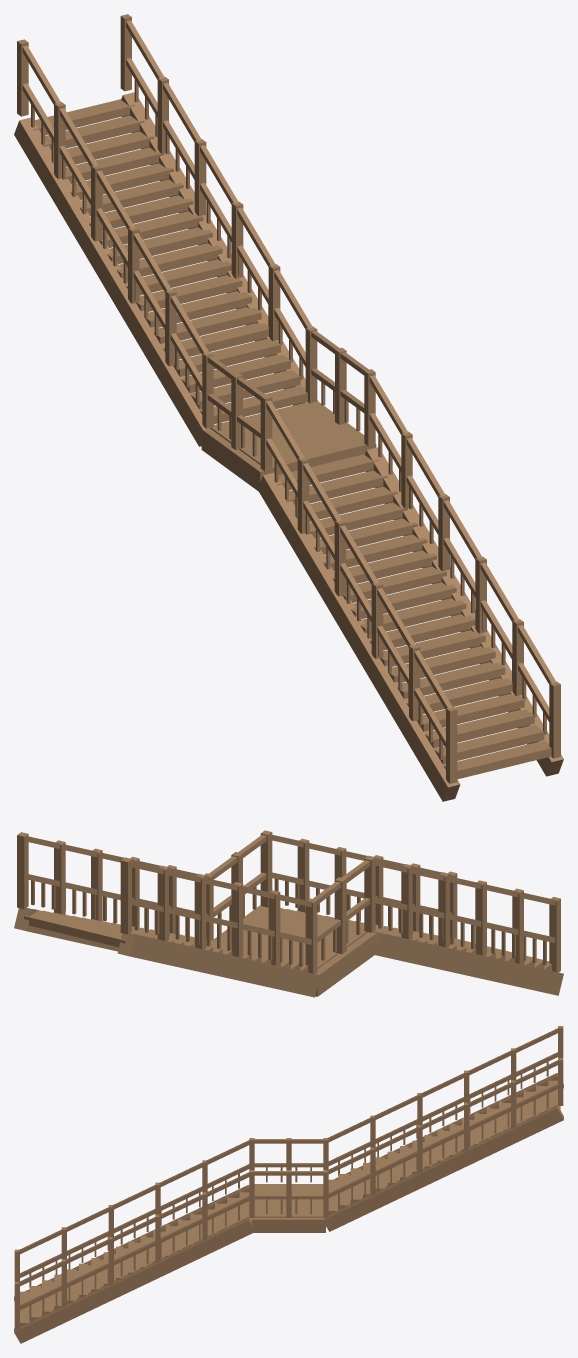
File: yokocho-timber-stair-flight.glb
3 renders of one model, top to bottom at view 1: azimuth 30°, elevation 25°; view 2: azimuth 150°, elevation 25°; view 3: azimuth 270°, elevation 25°, orthographic. The views are drawn at different scales.
Parts seen in each view (by area): view 1: Stairs/R01__Cedar, Stairs/R01__DarkTimber; view 2: Stairs/R01__Cedar, Stairs/R01__DarkTimber; view 3: Stairs/R01__DarkTimber, Stairs/R01__Cedar.
Part boxes in pixels (x1,y1,x2,y2): Stairs/R01__Cedar: (17,14,560,783); Stairs/R01__DarkTimber: (14,20,563,801); Stairs/R01__Cedar: (17,830,560,973); Stairs/R01__DarkTimber: (14,835,563,997); Stairs/R01__DarkTimber: (14,1028,563,1343); Stairs/R01__Cedar: (14,1026,563,1329).
Bounding box in the file's own units: 2.06 × 7.58 × 13.36.
